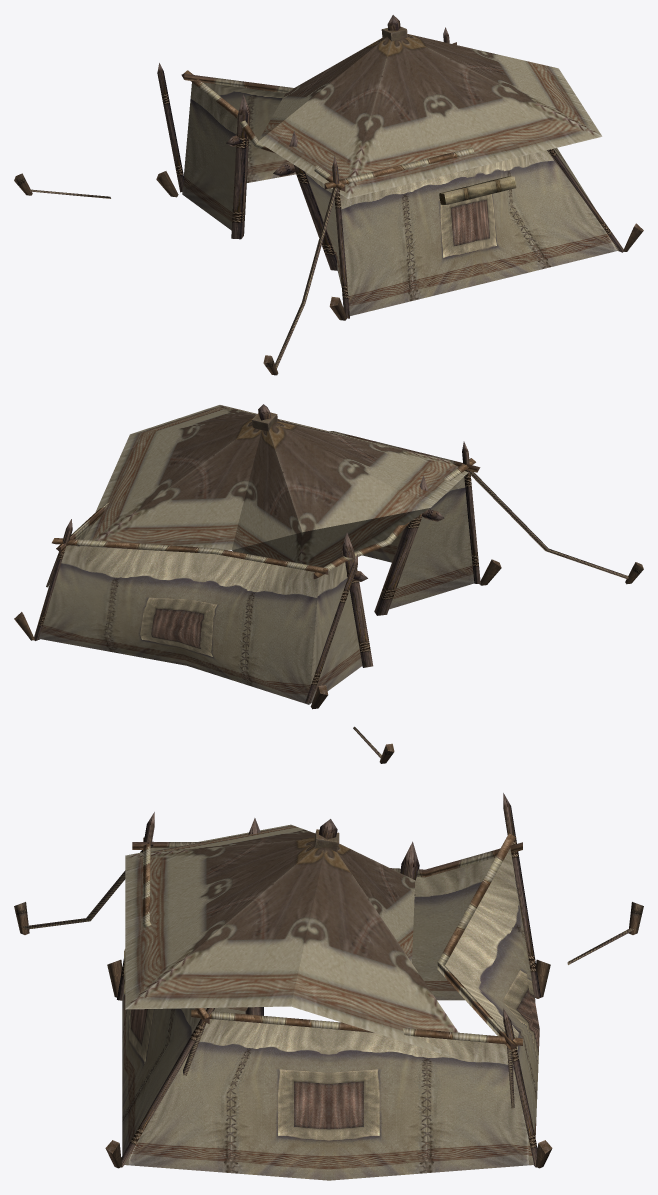
The model's file is pozhangpeng_yc_41.FBX.
The picture shows the model from 3 angles, top to bottom: view 1: azimuth 30°, elevation 25°; view 2: azimuth 150°, elevation 25°; view 3: azimuth 270°, elevation 25°; orthographic projection. The views are drawn at different scales.
Parts seen in each view (by area): view 1: pozhangpeng_yc_41; view 2: pozhangpeng_yc_41; view 3: pozhangpeng_yc_41.
Part boxes in pixels (x1,y1,x2,y2): pozhangpeng_yc_41: (14, 15, 643, 375); pozhangpeng_yc_41: (14, 404, 643, 763); pozhangpeng_yc_41: (14, 793, 643, 1180).
Size of what is drawn, in the model's own units: 1055 by 499 by 1093.
